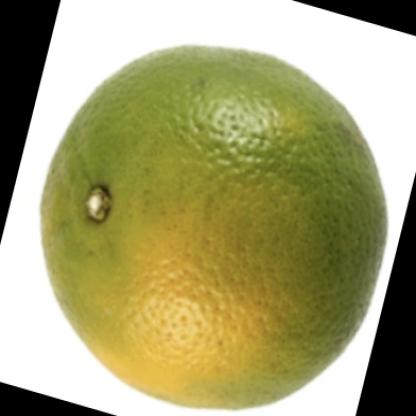fresh: (43, 46, 385, 405)
